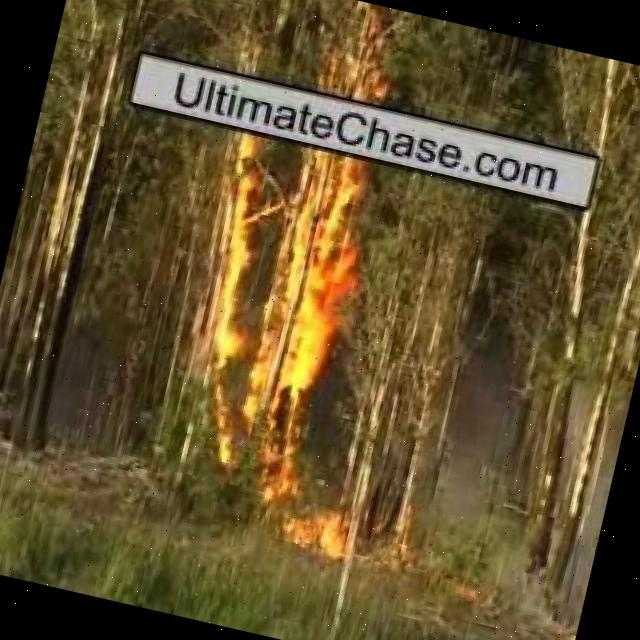fire: (165, 132, 404, 494), (242, 491, 354, 560), (329, 15, 395, 104)
